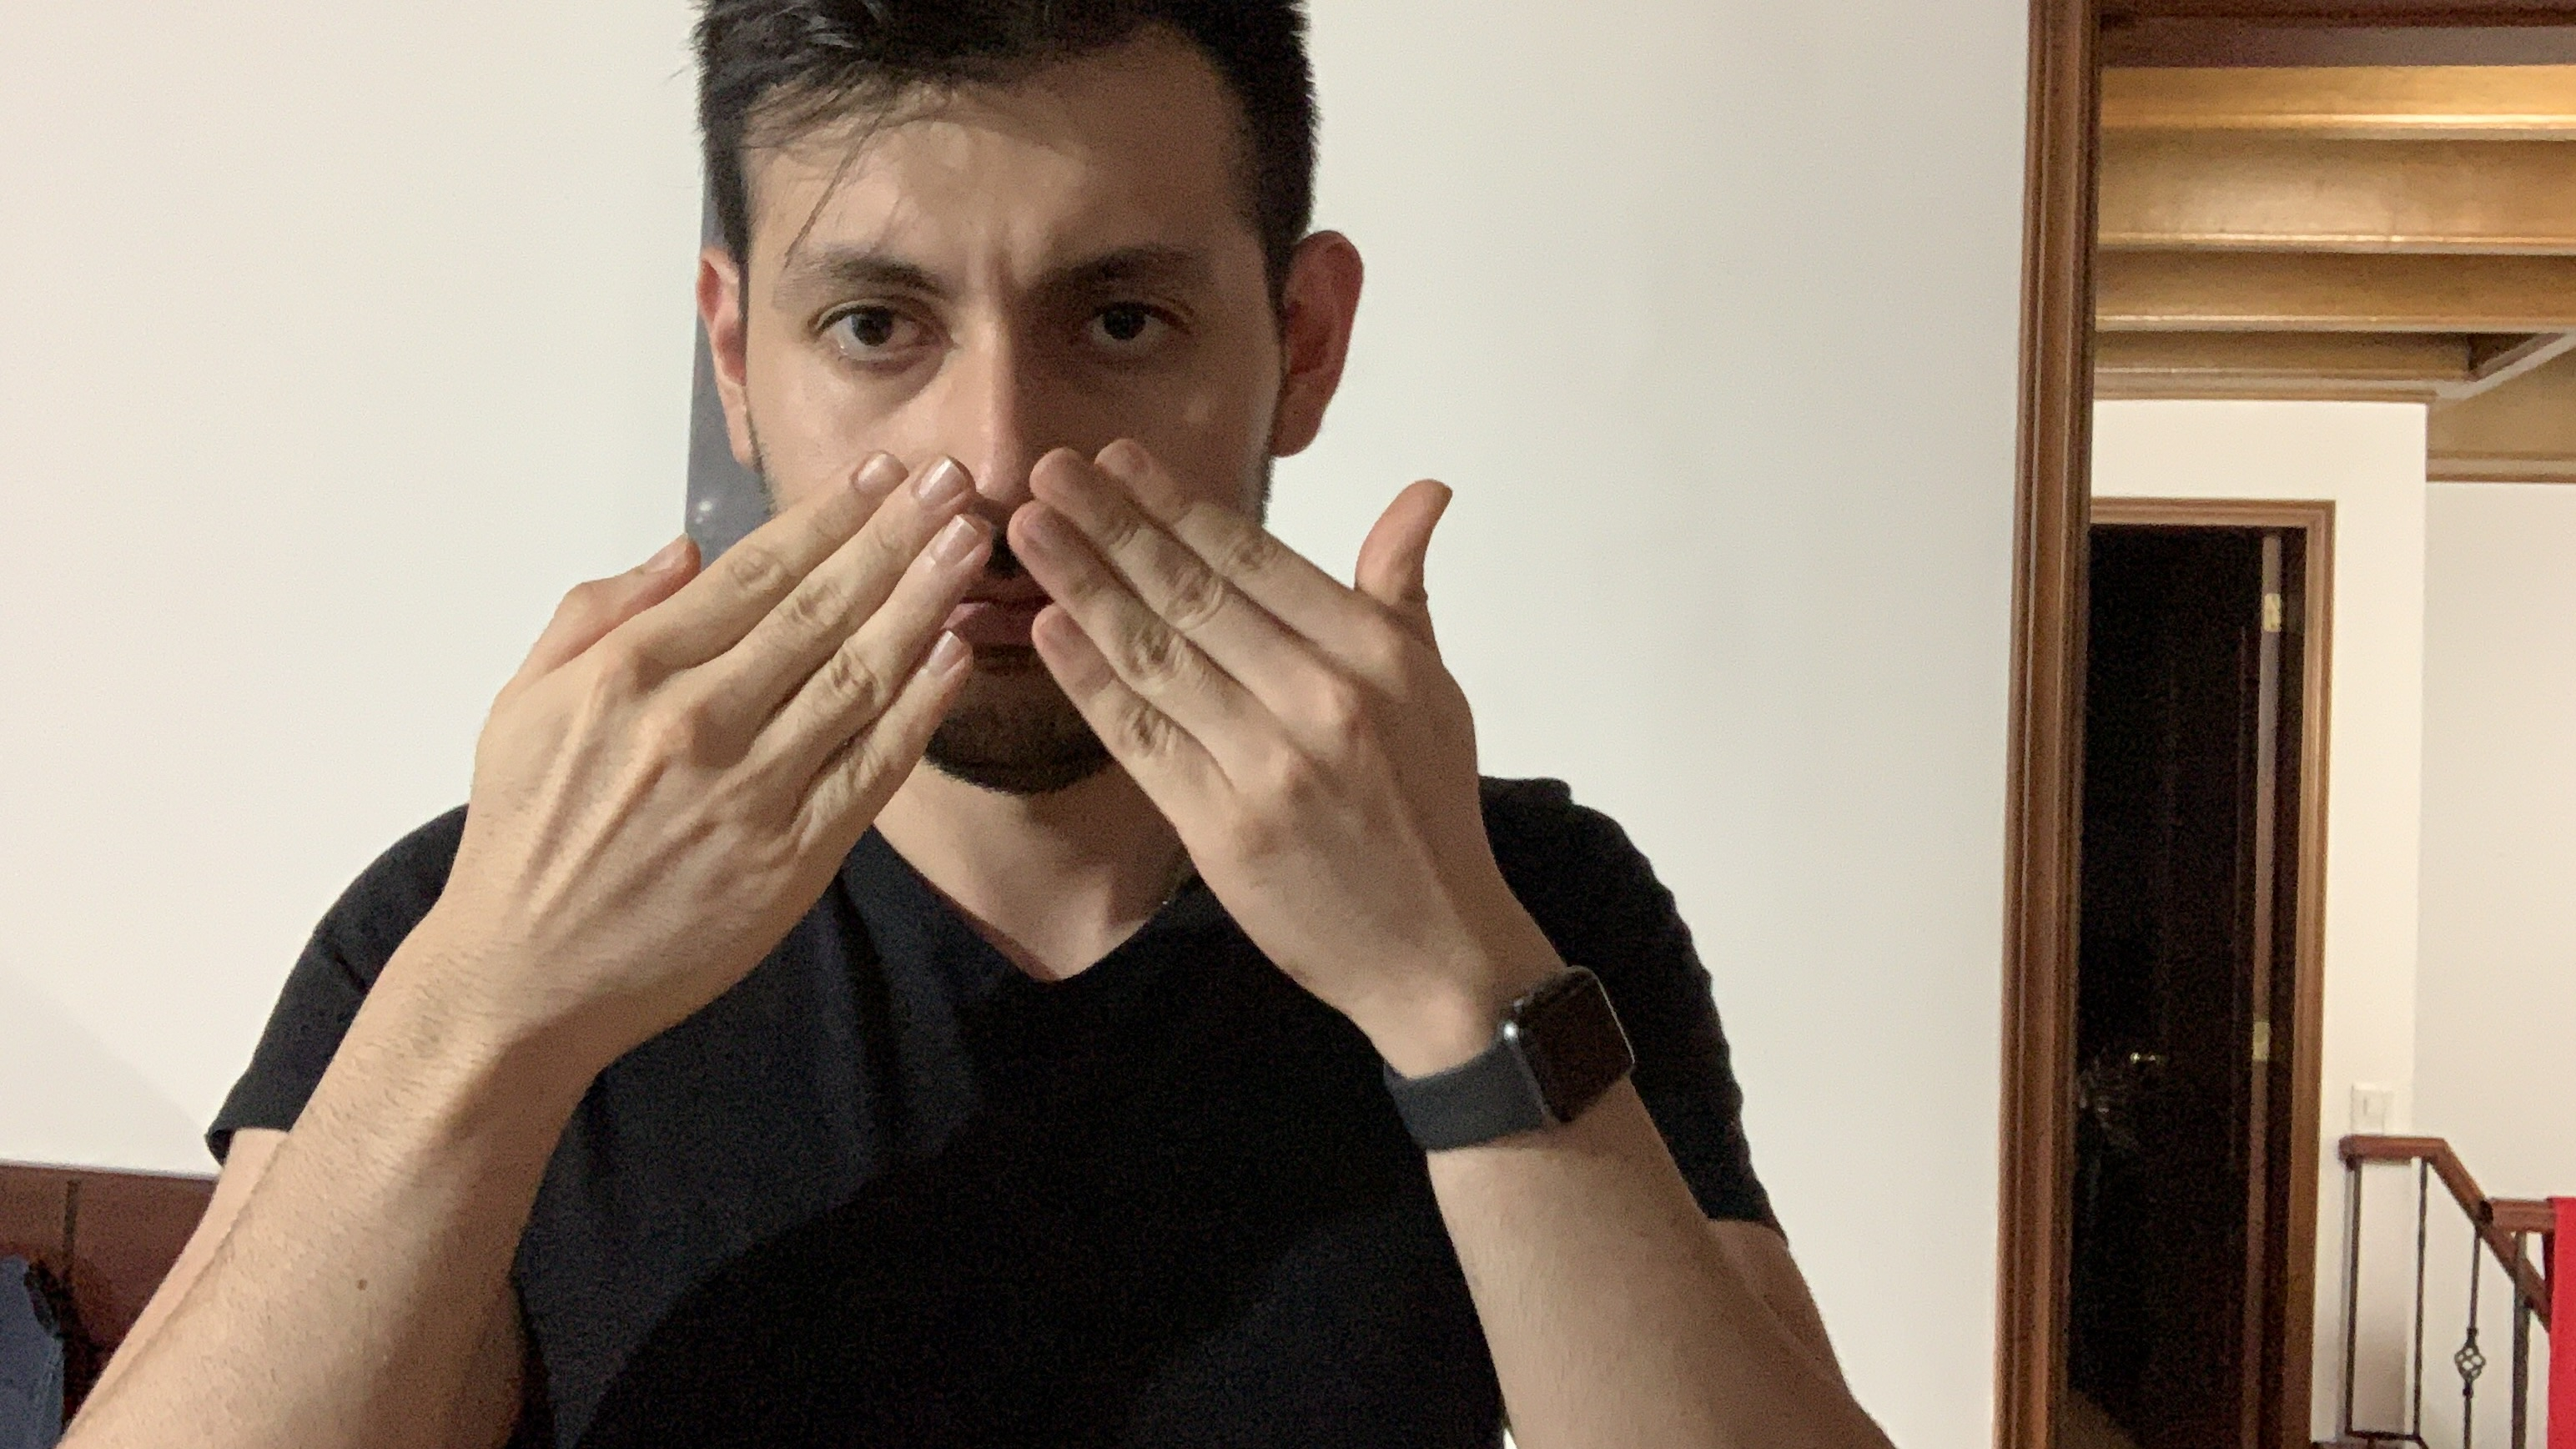Thank You: (451, 430, 1536, 1026)
